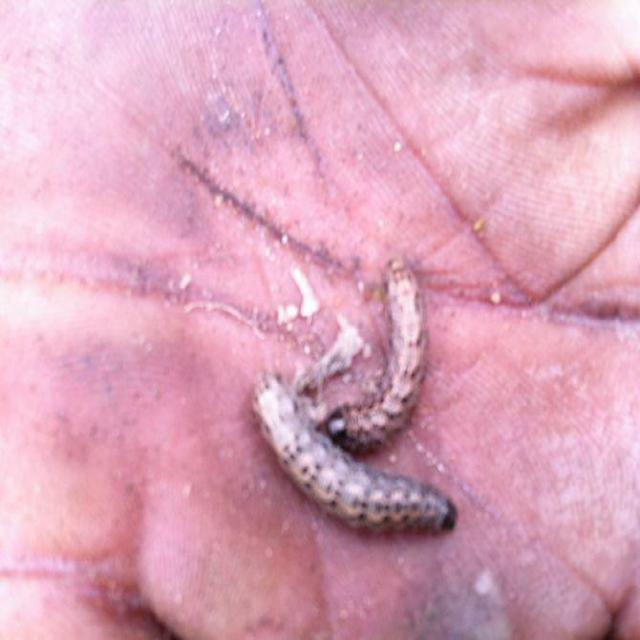BeetArmyWorm-Larva-: (243, 369, 460, 549), (326, 249, 426, 457)
